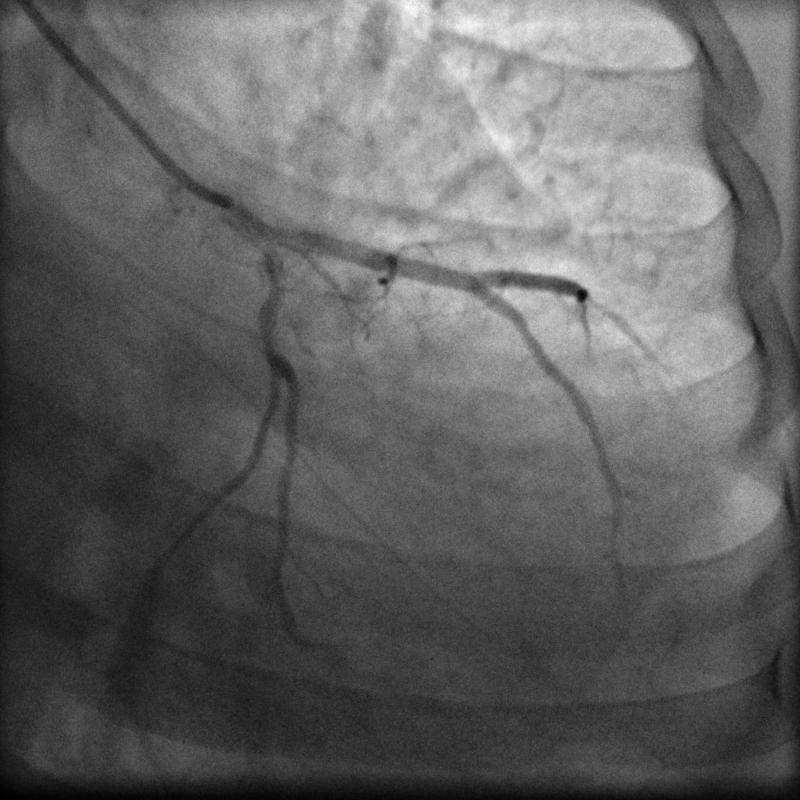Stenosis: (246, 310, 301, 354)
